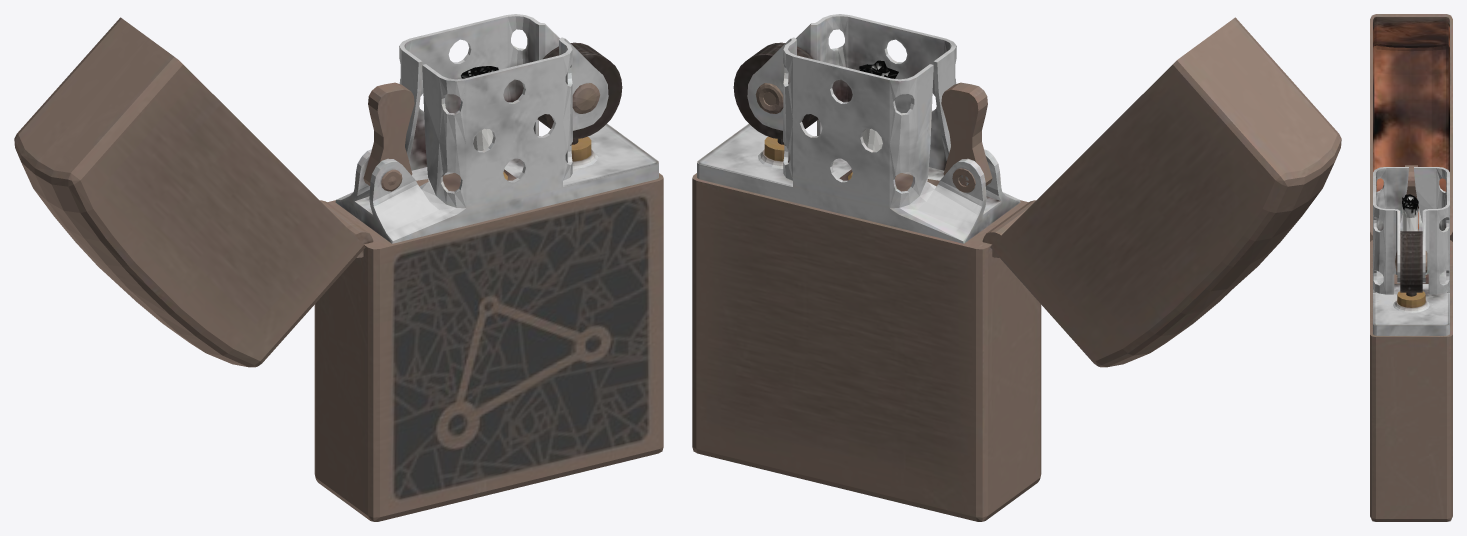
The model's file is Lighter.obj.
3 renders of one model, left to right at view 1: azimuth 30°, elevation 25°; view 2: azimuth 150°, elevation 25°; view 3: azimuth 270°, elevation 25°, orthographic. The views are drawn at different scales.
Parts seen in each view (by area): view 1: Cube_001, Cylinder, Circle_006, Circle_002; view 2: Cube_001, Cylinder, Circle_006, Circle_002; view 3: Cube_001, Cylinder, Circle_002, Cube_001_1, Circle_006.
Boxes of the visible parts, x1,y1,x2,y2 form: Cube_001: (314, 14, 663, 521); Cylinder: (14, 17, 373, 367); Circle_006: (363, 82, 414, 191); Circle_002: (537, 42, 622, 139); Cube_001: (692, 14, 1041, 521); Cylinder: (982, 17, 1341, 367); Circle_006: (941, 82, 992, 192); Circle_002: (733, 42, 818, 139); Cube_001: (1370, 167, 1452, 521); Cylinder: (1370, 14, 1452, 241); Circle_002: (1395, 231, 1427, 292); Cube_001_1: (1402, 194, 1418, 217); Circle_006: (1405, 165, 1417, 198).
Bounding box in the file's own units: 0.0796 × 0.065 × 0.014.
Materials: 2 (2 with a texture image).
